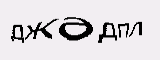Д: (97, 21, 118, 44), (10, 24, 25, 44)
Ж: (23, 18, 58, 42)
Л: (127, 20, 143, 39)
П: (116, 21, 130, 40)
Ә: (57, 15, 93, 43)
